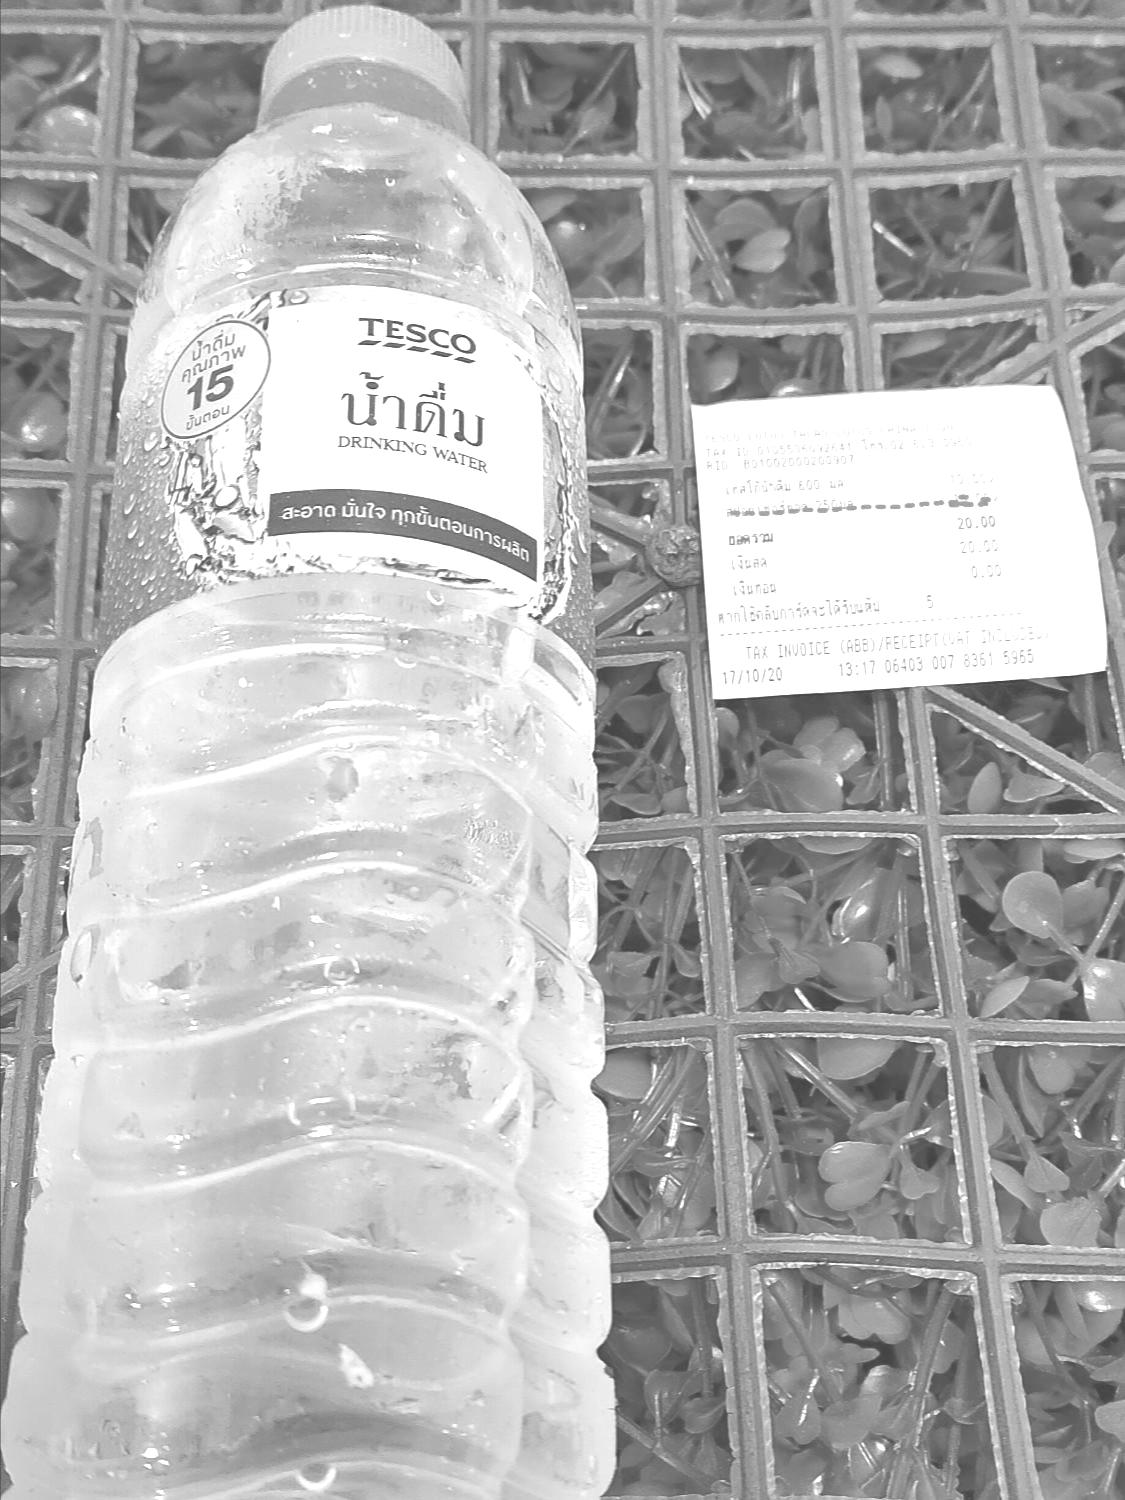bottle: (0, 0, 643, 1500)
